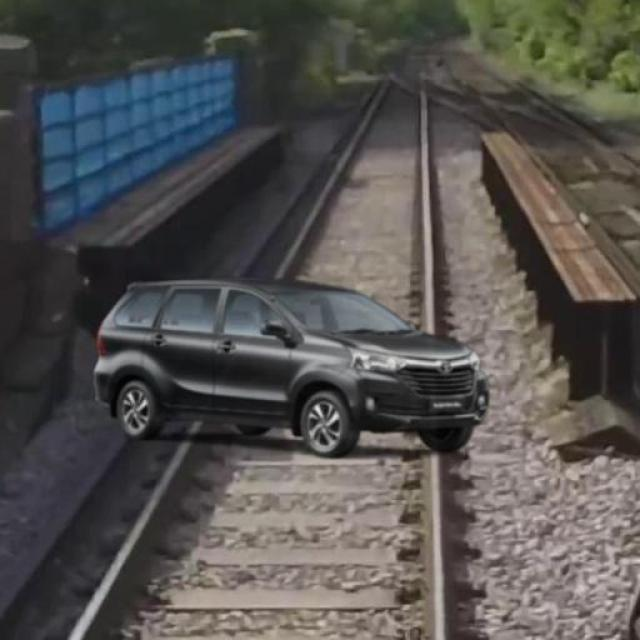vehicle: (91, 271, 494, 460)
